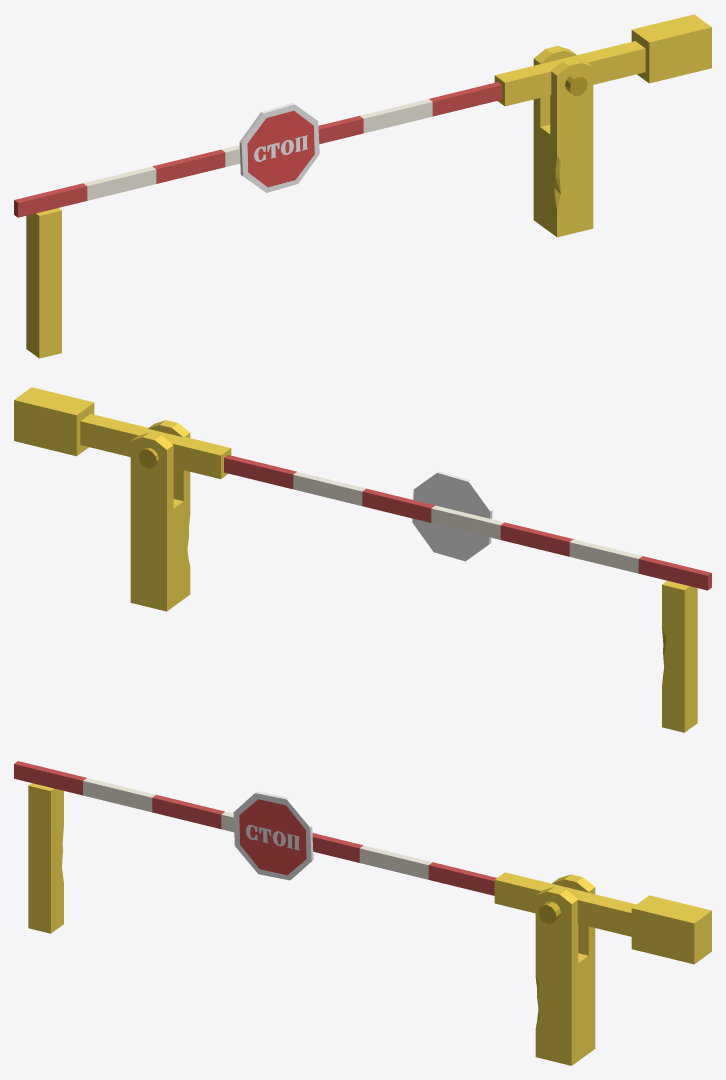
File: Wh_Boom_Barrier.fbx
The picture shows the model from 3 angles, top to bottom: view 1: azimuth 30°, elevation 25°; view 2: azimuth 150°, elevation 25°; view 3: azimuth 330°, elevation 25°; orthographic projection.
Visible parts, largest first — view 1: Cylinder.023, Cube.760; view 2: Cylinder.023, Cube.760; view 3: Cylinder.023, Cube.760.
Boxes of the visible parts, bbox=[...] form: Cylinder.023: bbox=[14, 14, 711, 217]; Cube.760: bbox=[26, 46, 593, 358]; Cylinder.023: bbox=[14, 387, 711, 590]; Cube.760: bbox=[130, 420, 697, 732]; Cylinder.023: bbox=[14, 761, 711, 964]; Cube.760: bbox=[28, 783, 595, 1065].
Size of the model in its own units: 604 by 160 by 46.92.
